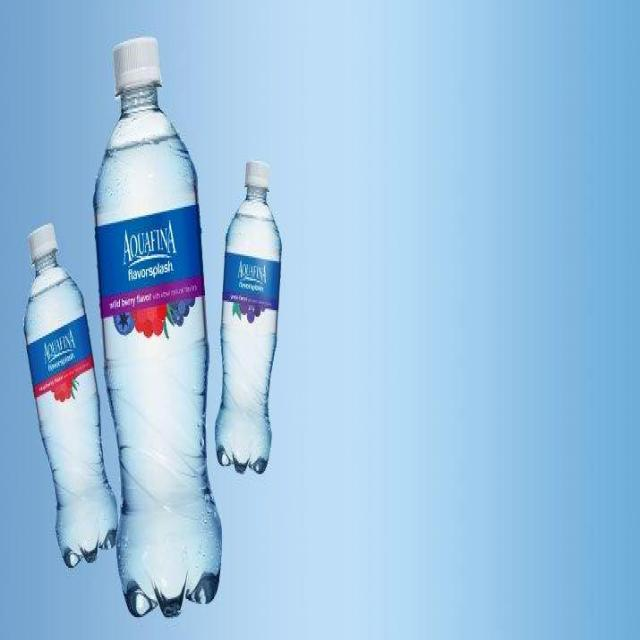bottle: (16, 218, 127, 591), (219, 159, 289, 511)
